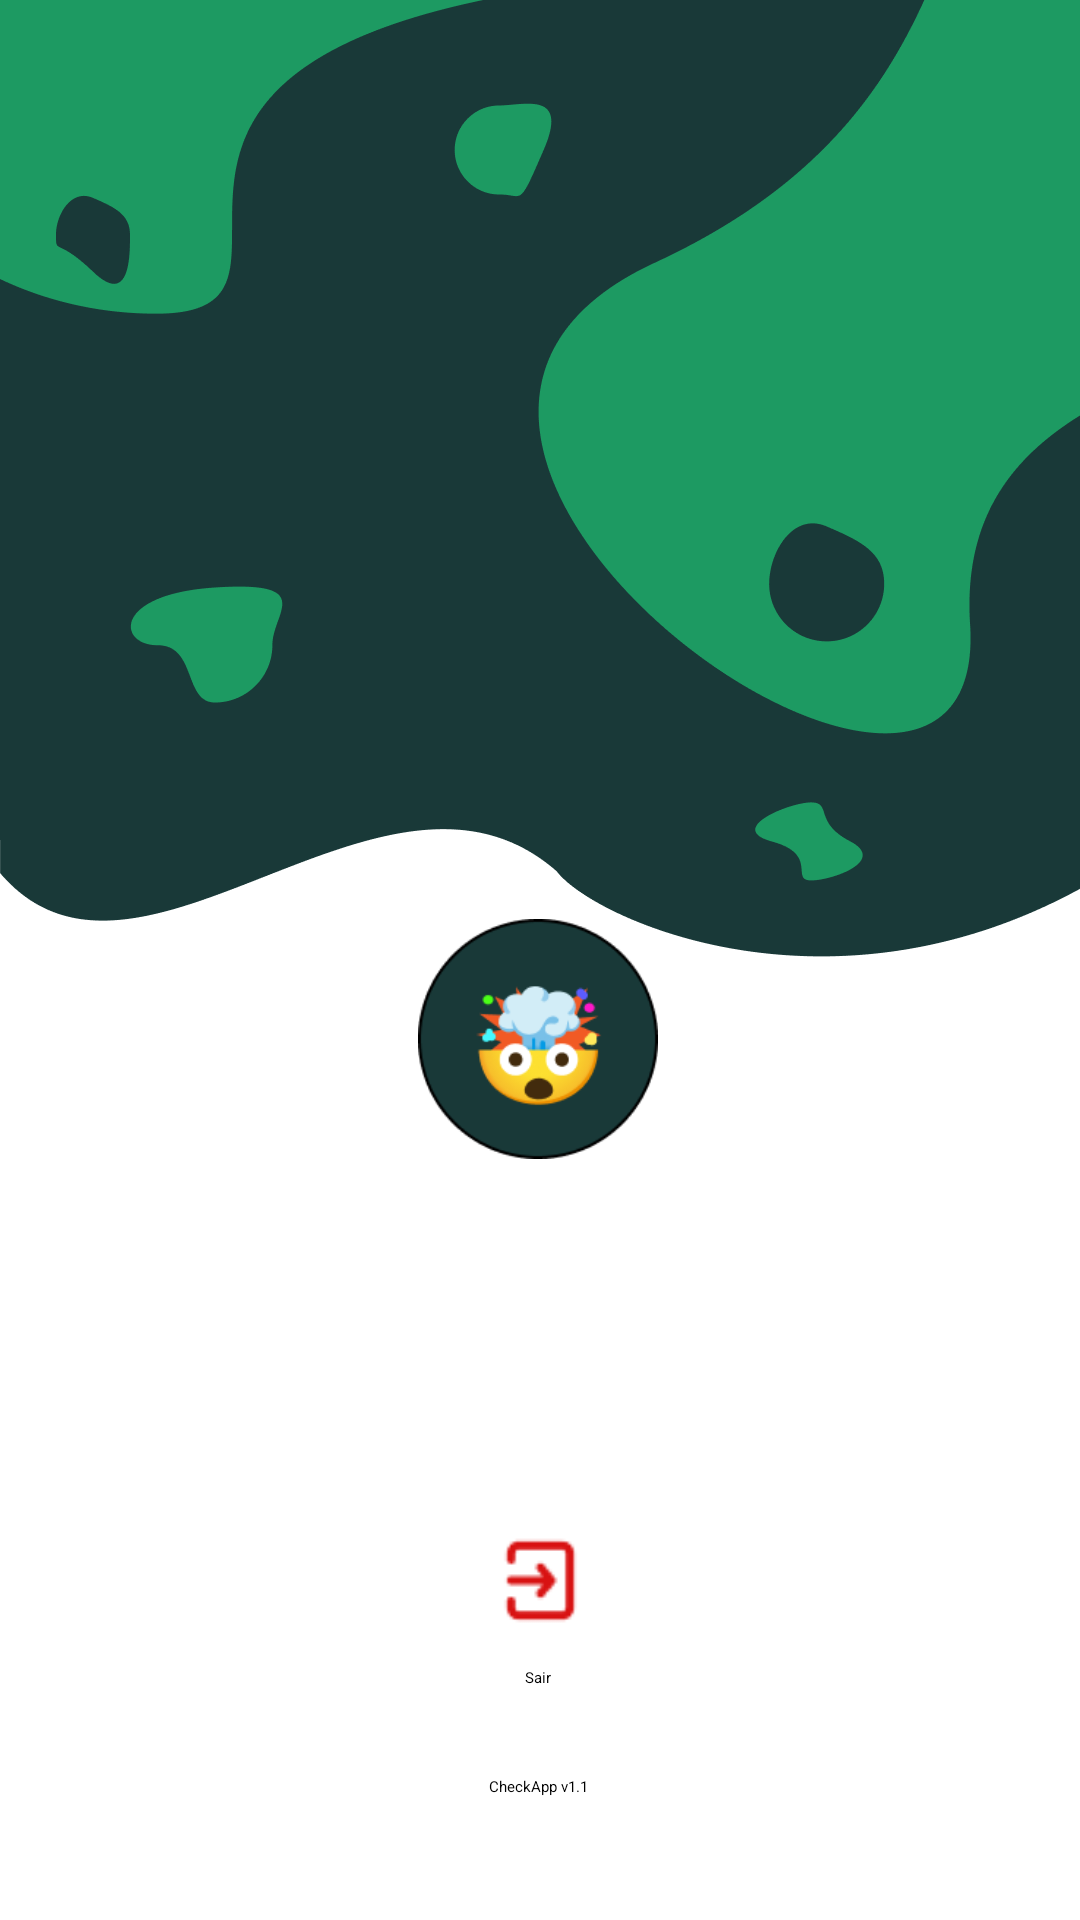

Screen size 1080x1920. Icon name, then its box in pixels as (x1, y1, x2, y2):
emogi: (418, 919, 658, 1159)
exit: (505, 1540, 575, 1621)
